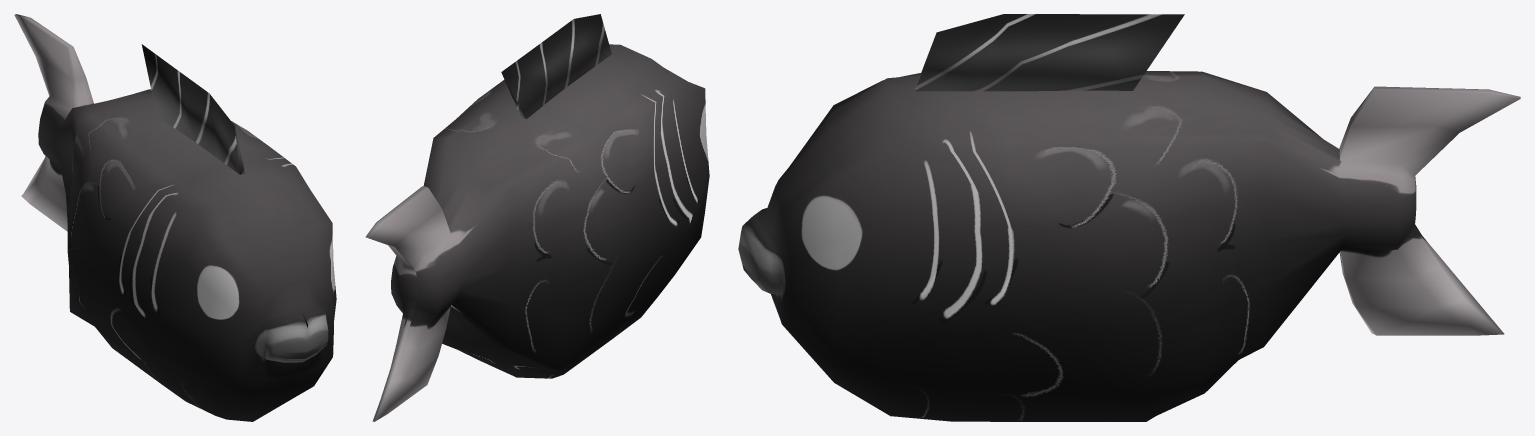
Rendered from Fish.fbx.
3 views of the same model, side by side, from view 1: azimuth 30°, elevation 25°; view 2: azimuth 150°, elevation 25°; view 3: azimuth 270°, elevation 25° (orthographic). The views are drawn at different scales.
Visible parts, largest first — view 1: Cube; view 2: Cube; view 3: Cube.
Boxes of the visible parts, x1,y1,x2,y2 form: Cube: (14, 14, 336, 421); Cube: (365, 14, 709, 421); Cube: (738, 14, 1520, 421).
Size of the model in its own units: 162 by 247 by 442.
